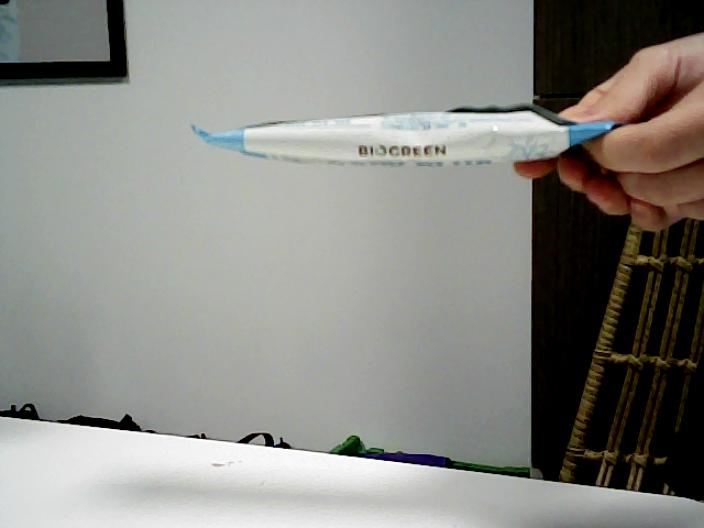Adult_Milk_0-99g_Halal_NonHealthy: (272, 121, 559, 159)
